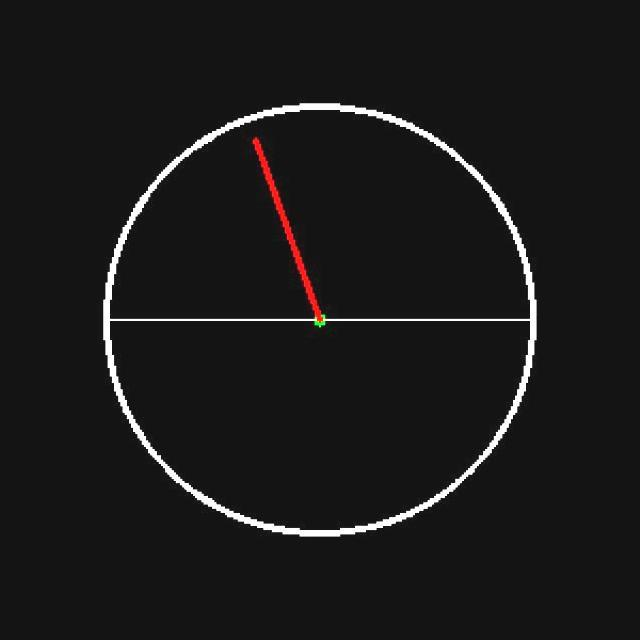Needle_Tip: (224, 117, 282, 167)
Needle_base: (291, 289, 341, 345)
